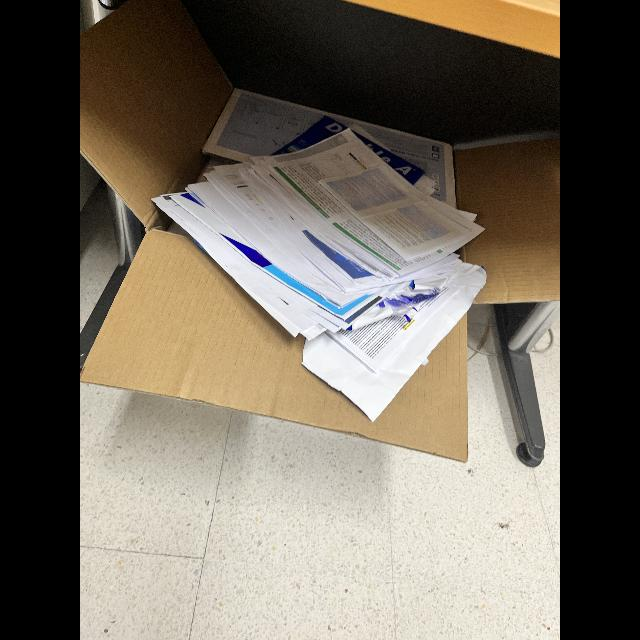reuseable_paper: (152, 118, 496, 412)
